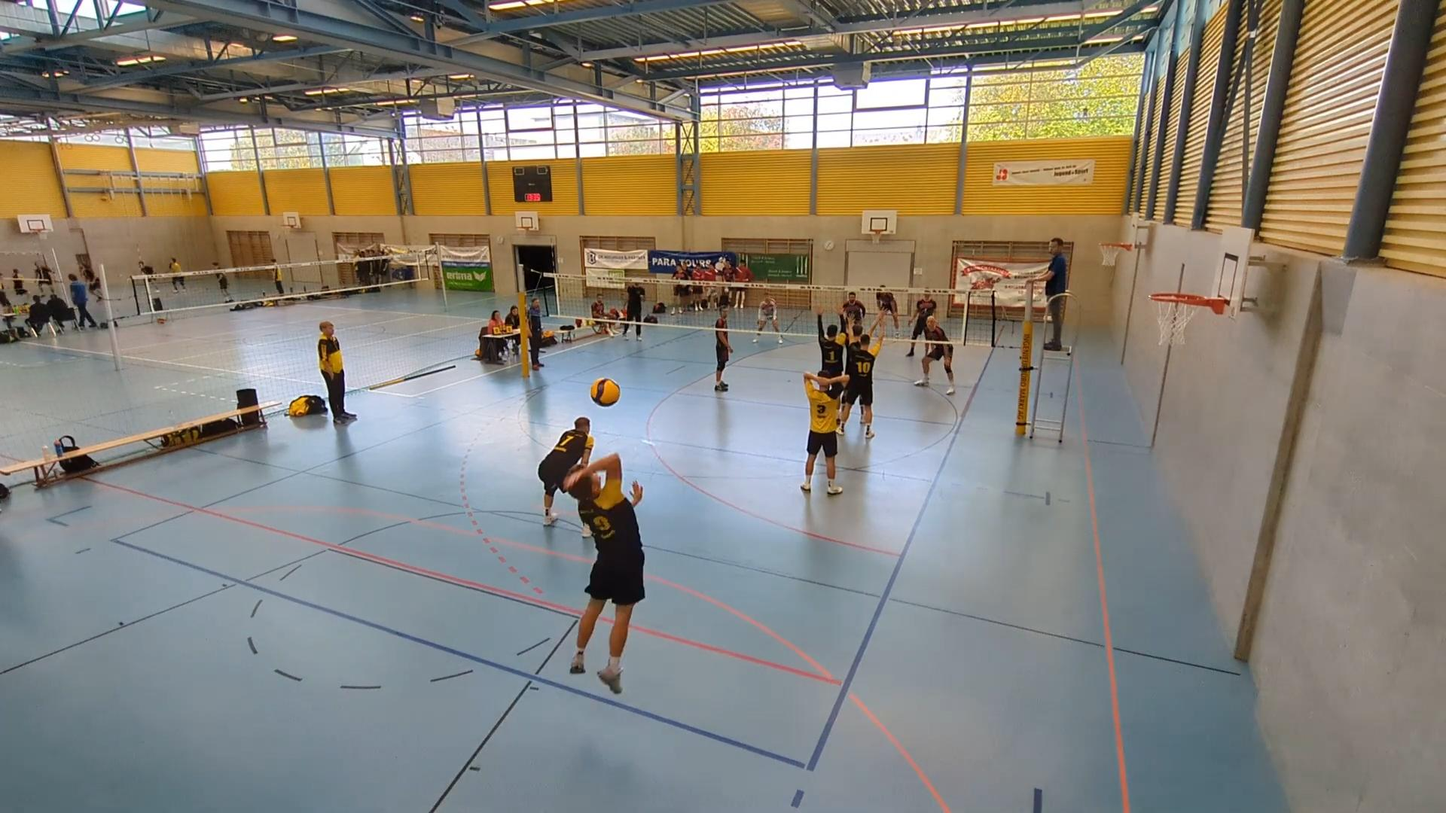Player: (538, 417, 593, 525), (837, 313, 883, 438), (801, 373, 848, 495), (914, 315, 954, 394), (816, 308, 846, 376), (906, 293, 936, 356), (753, 294, 782, 343), (715, 306, 731, 390), (876, 287, 898, 337), (841, 292, 866, 324)
Serve: (558, 448, 654, 693)
ball: (593, 380, 624, 406)
